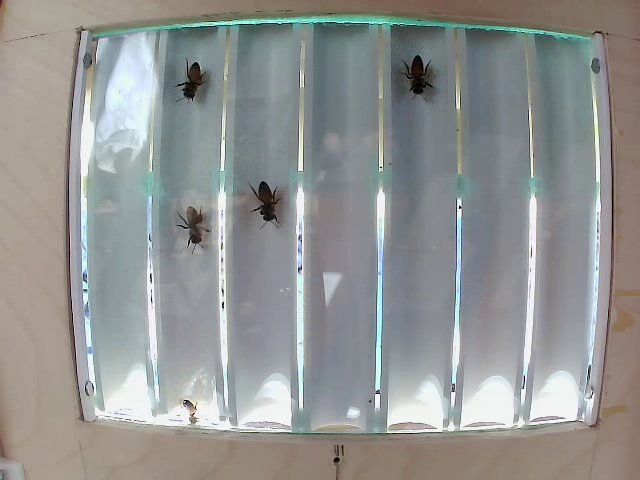bee: (251, 171, 293, 221), (183, 204, 219, 259), (181, 53, 216, 101), (398, 51, 431, 93)
